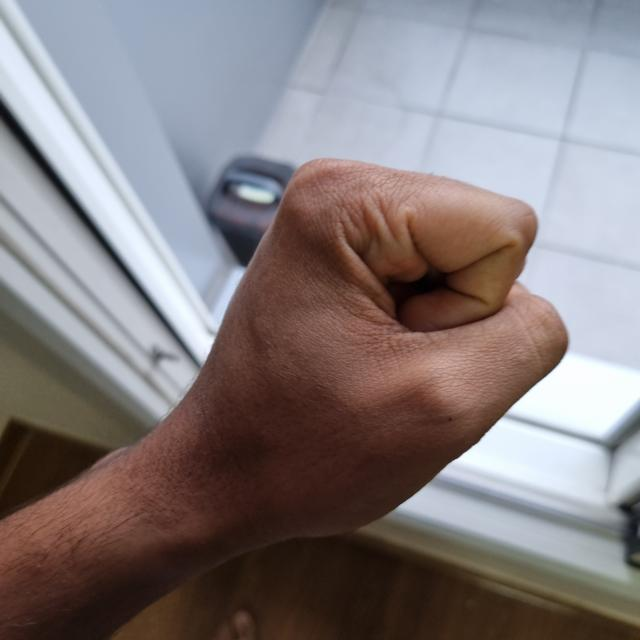Rock: (179, 164, 564, 537)
